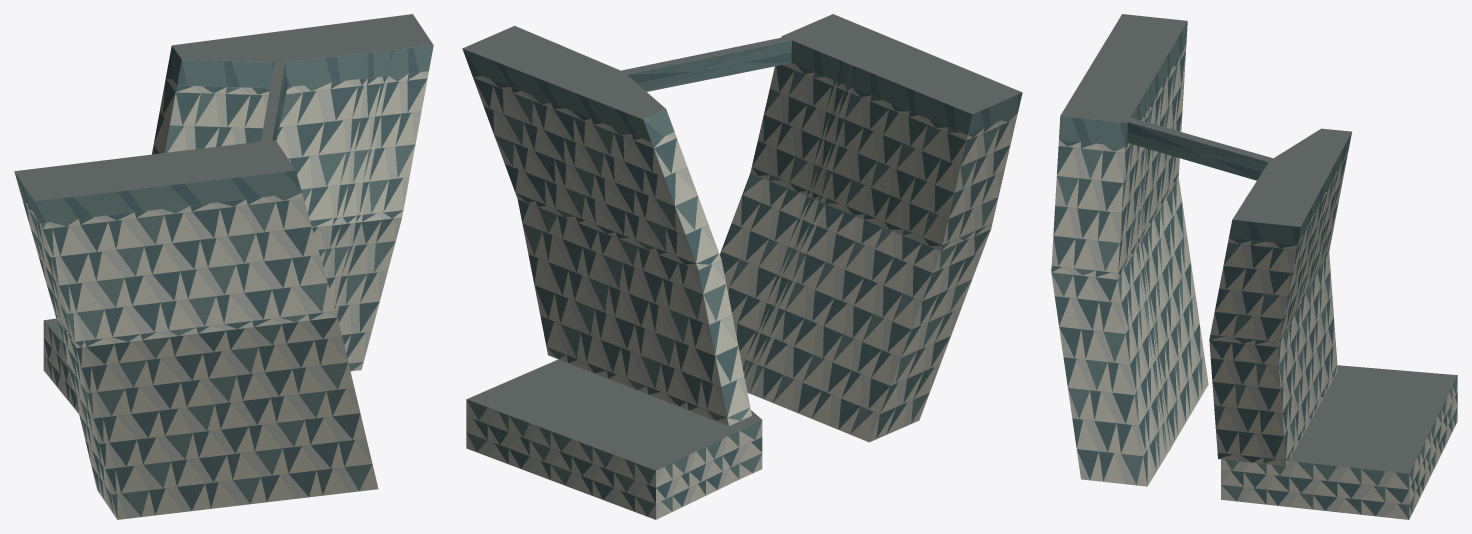
Rendered from bella-sky-copenhagen-far.glb.
3 renders of one model, left to right at view 1: azimuth 30°, elevation 25°; view 2: azimuth 150°, elevation 25°; view 3: azimuth 270°, elevation 25°, orthographic. The views are drawn at different scales.
Visible parts, largest first — view 1: bella-sky-copenhagen-0-panel, bella-sky-copenhagen-0-glass, bella-sky-copenhagen-0-panelShade, bella-sky-copenhagen-0-glassShade, bella-sky-copenhagen-0-roof, bella-sky-copenhagen-0-frame; view 2: bella-sky-copenhagen-0-panel, bella-sky-copenhagen-0-glass, bella-sky-copenhagen-0-panelShade, bella-sky-copenhagen-0-roof, bella-sky-copenhagen-0-glassShade, bella-sky-copenhagen-0-frame; view 3: bella-sky-copenhagen-0-panel, bella-sky-copenhagen-0-glass, bella-sky-copenhagen-0-roof, bella-sky-copenhagen-0-panelShade, bella-sky-copenhagen-0-glassShade, bella-sky-copenhagen-0-frame.
Part boxes in pixels (left/top/right/bottom): bella-sky-copenhagen-0-panel: left=25, top=72, right=427, bottom=519; bella-sky-copenhagen-0-glass: left=18, top=47, right=427, bottom=514; bella-sky-copenhagen-0-panelShade: left=21, top=71, right=428, bottom=518; bella-sky-copenhagen-0-glassShade: left=14, top=45, right=433, bottom=518; bella-sky-copenhagen-0-roof: left=14, top=14, right=433, bottom=342; bella-sky-copenhagen-0-frame: left=34, top=45, right=432, bottom=494; bella-sky-copenhagen-0-panel: left=466, top=63, right=1017, bottom=519; bella-sky-copenhagen-0-glass: left=462, top=36, right=1022, bottom=511; bella-sky-copenhagen-0-panelShade: left=466, top=63, right=1016, bottom=519; bella-sky-copenhagen-0-roof: left=462, top=14, right=1022, bottom=470; bella-sky-copenhagen-0-glassShade: left=463, top=36, right=1017, bottom=516; bella-sky-copenhagen-0-frame: left=466, top=40, right=1018, bottom=503; bella-sky-copenhagen-0-panel: left=1052, top=48, right=1457, bottom=519; bella-sky-copenhagen-0-glass: left=1051, top=32, right=1457, bottom=515; bella-sky-copenhagen-0-roof: left=1060, top=14, right=1457, bottom=473; bella-sky-copenhagen-0-panelShade: left=1051, top=45, right=1457, bottom=517; bella-sky-copenhagen-0-glassShade: left=1051, top=22, right=1457, bottom=519; bella-sky-copenhagen-0-frame: left=1051, top=28, right=1456, bottom=504.
Bounding box in the file's own units: 109 × 76.5 × 87.69.
